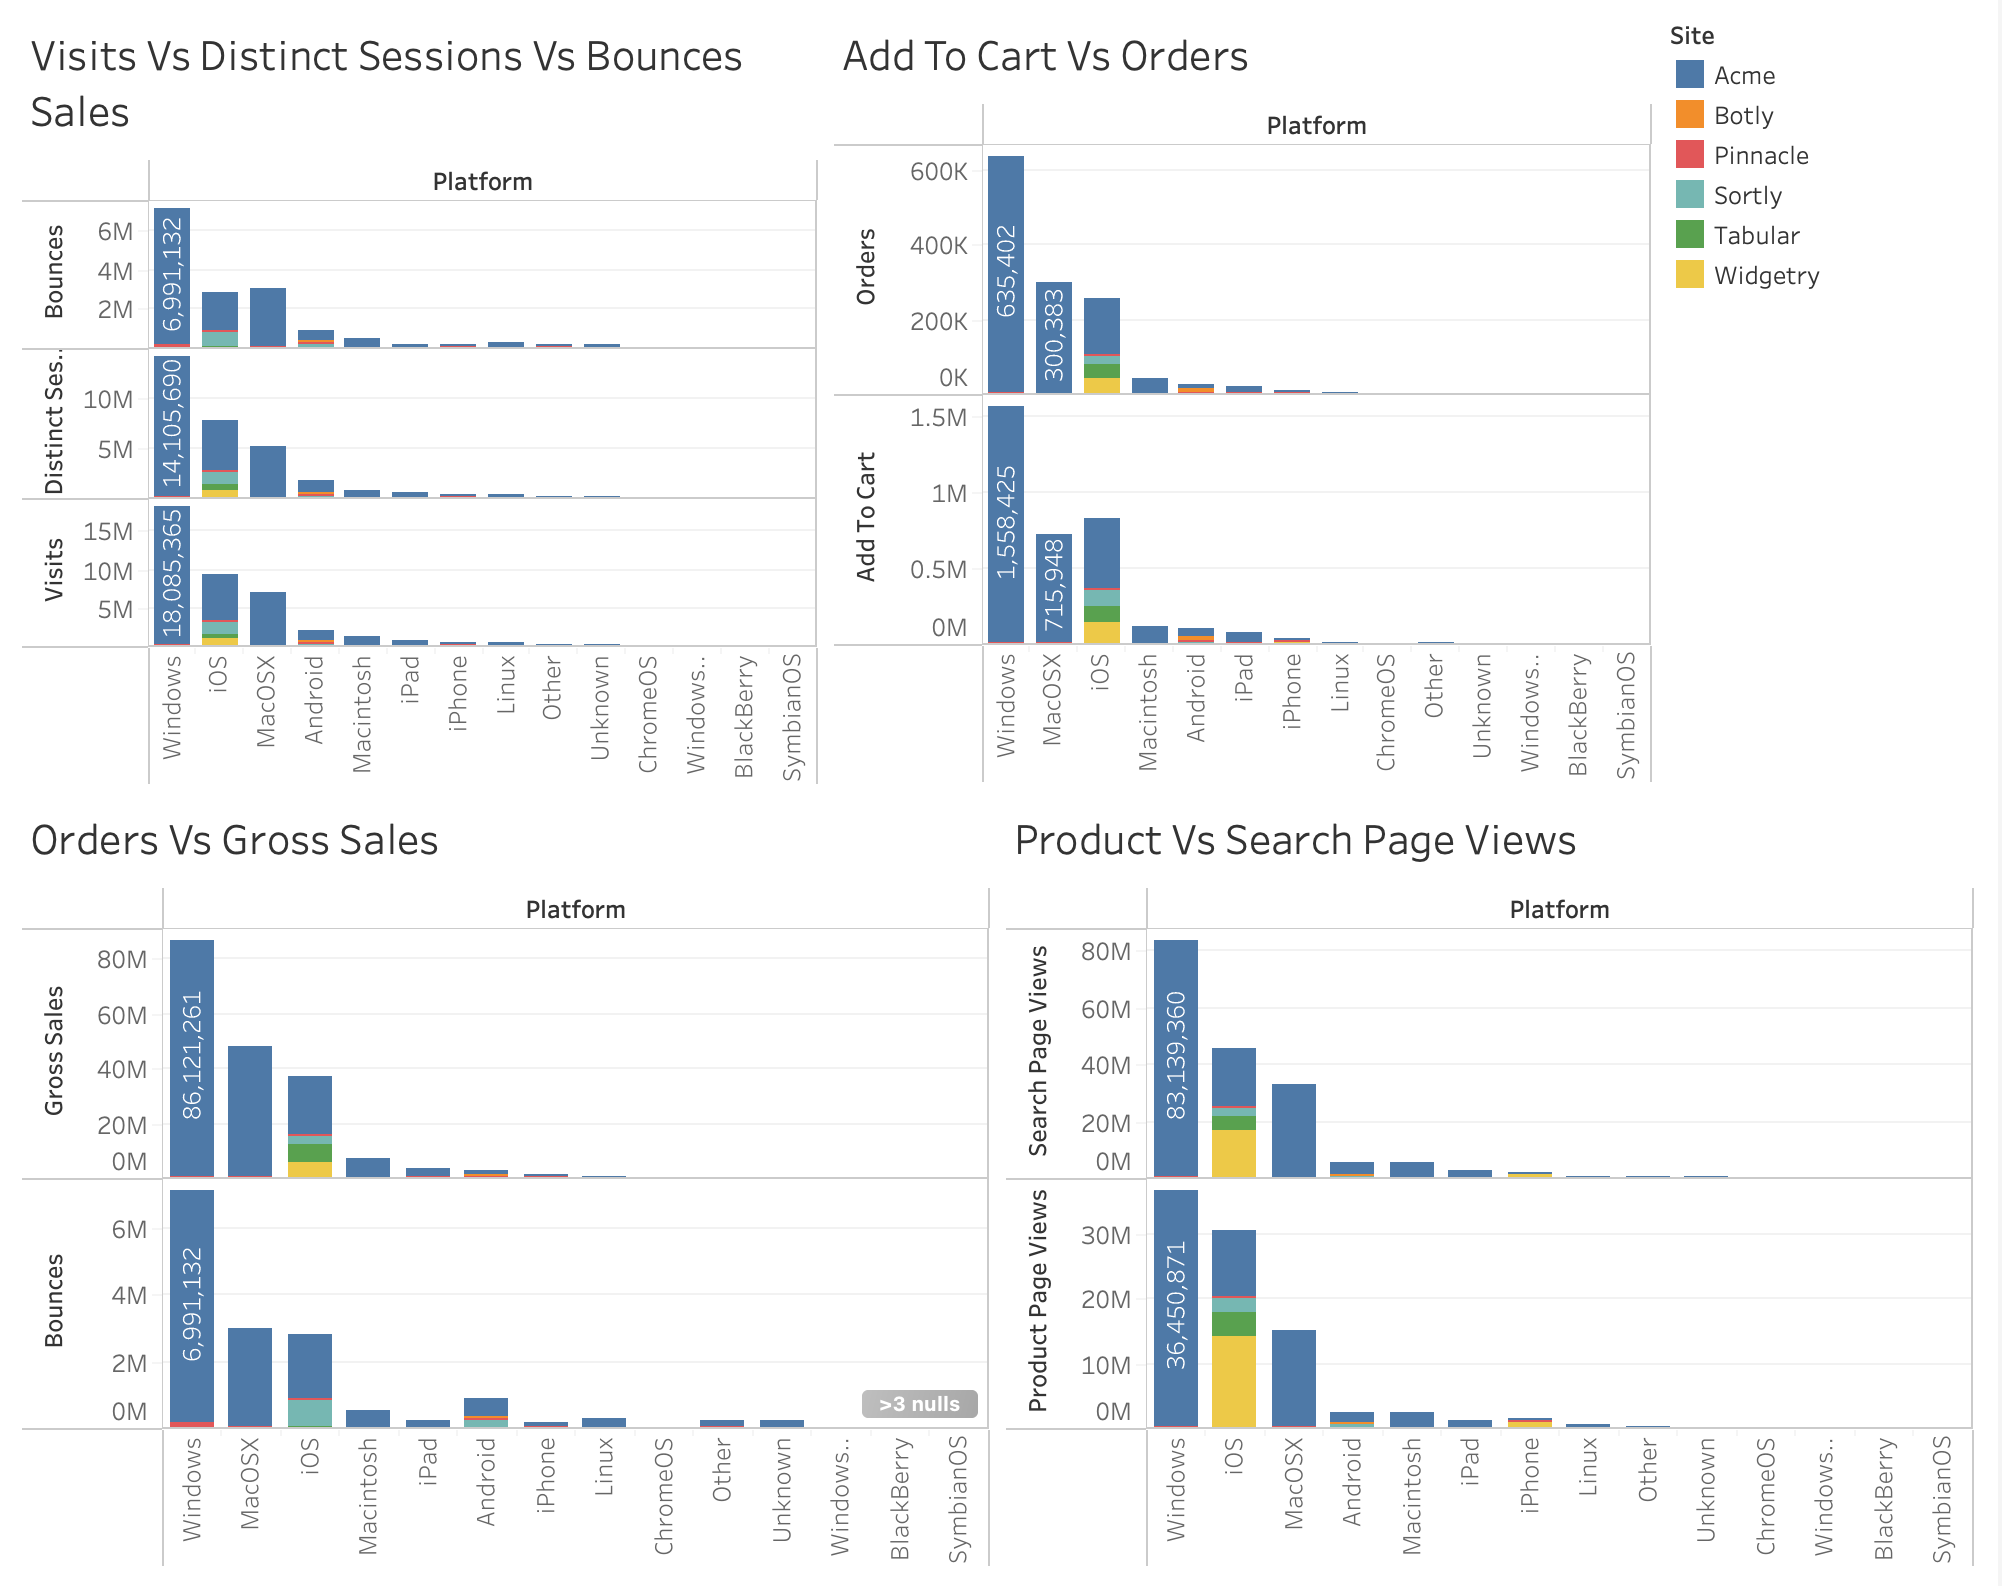

Layout of this report page (visuals, bound fields, positions):
{"tool":"tableau","page":{"name":"Dashboard 1","canvas":[1000,800],"ordinal":0},"visuals":[{"type":"worksheet","title":"Visits Vs Distinct Sessions Vs Bounces Sales","mark":"Automatic","rows":["bounces","distinct_sessions","visits"],"cols":["platform"],"box":[8,8,406.4,392]},{"type":"worksheet","title":"Add To Cart Vs Orders","mark":"Automatic","rows":["orders","add_to_cart"],"cols":["platform"],"box":[414.4,8,417.4,392]},{"type":"legend","title":"Visits Vs Distinct Sessions Vs Bounces Sales","param":"[federated.0oz0gj705qatrt1aypaw313tw9mm].[none:site:nk]","box":[832,8,160,277]},{"type":"worksheet","title":"Orders Vs Gross Sales","mark":"Automatic","rows":["gross_sales","bounces"],"cols":["platform"],"box":[8,400,492,392]},{"type":"worksheet","title":"Product Vs Search Page Views","mark":"Automatic","rows":["search_page_views","product_page_views"],"cols":["platform"],"box":[500,400,492,392]}]}

Visuals, with their boxes in screenshot pixels (x1, y1, x2, y2), scaled from the page's 1000x800 canvas onto the 2002x1586 screenshot:
"Visits Vs Distinct Sessions Vs Bounces Sales" worksheet: crop(16, 16, 830, 793)
"Add To Cart Vs Orders" worksheet: crop(830, 16, 1665, 793)
"Visits Vs Distinct Sessions Vs Bounces Sales" legend: crop(1666, 16, 1986, 565)
"Orders Vs Gross Sales" worksheet: crop(16, 793, 1001, 1570)
"Product Vs Search Page Views" worksheet: crop(1001, 793, 1986, 1570)
